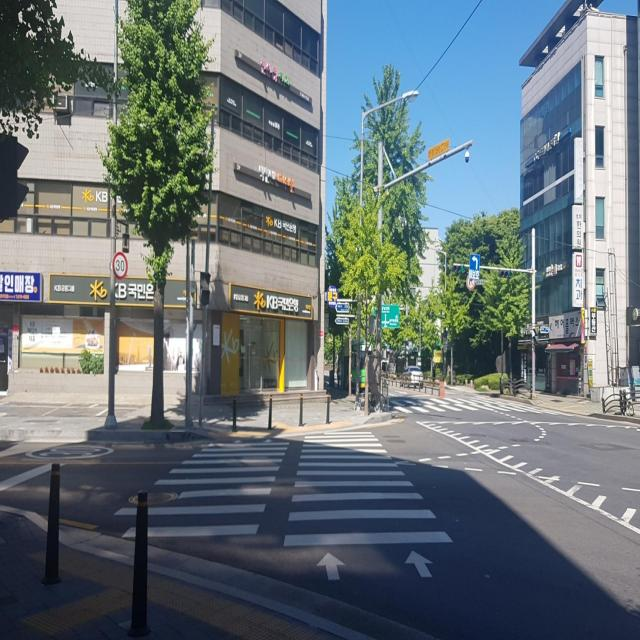횡단보도: (112, 430, 454, 582), (397, 400, 537, 415)
